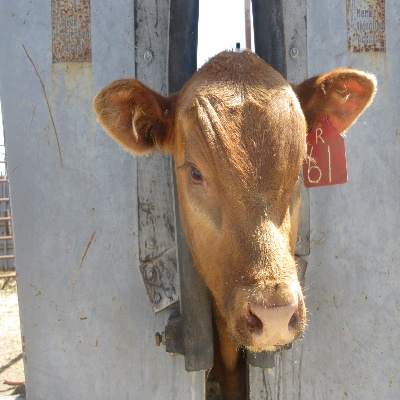fidget_spinner: (240, 285, 312, 350)
